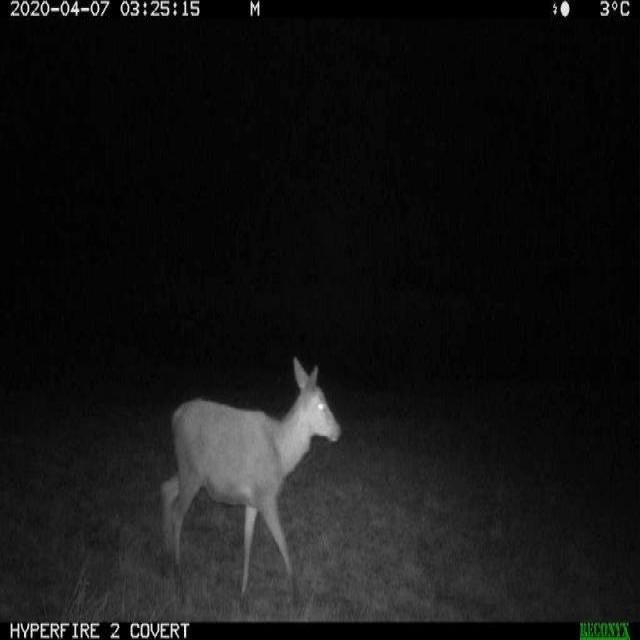deer: (124, 326, 368, 613)
